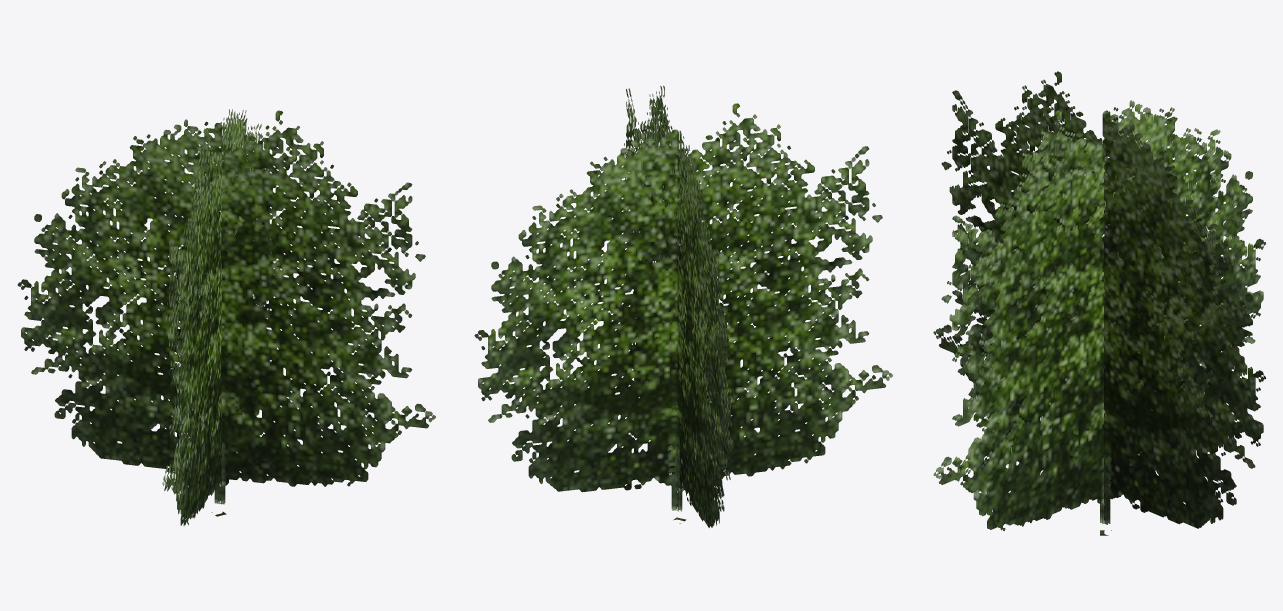
Rendered from tree112.fbx.
3 renders of one model, left to right at view 1: azimuth 30°, elevation 25°; view 2: azimuth 150°, elevation 25°; view 3: azimuth 270°, elevation 25°, orthographic. The views are drawn at different scales.
Parts seen in each view (by area): view 1: tree112; view 2: tree112; view 3: tree112.
Boxes of the visible parts, box(x1,y1,x2,y2) form: tree112: box(17, 109, 435, 525); tree112: box(474, 85, 892, 527); tree112: box(933, 71, 1265, 530).
Bounding box in the file's own units: 287 × 400 × 278.
Materials: 1 (1 with a texture image).
